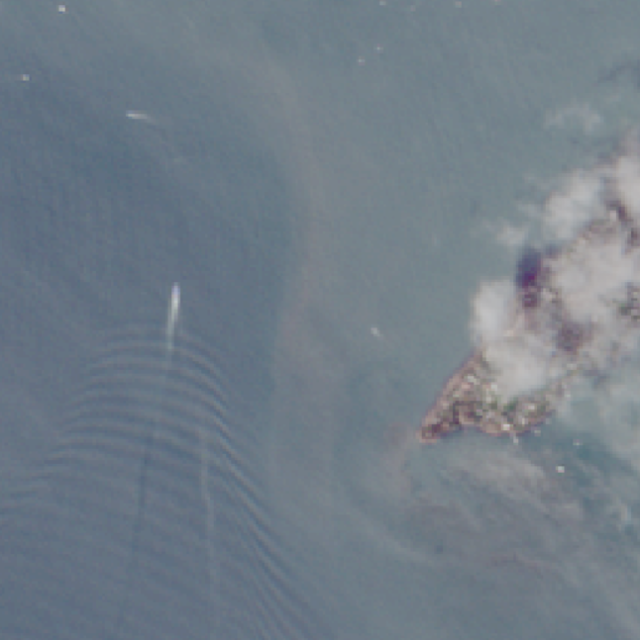wake: (34, 245, 286, 566)
